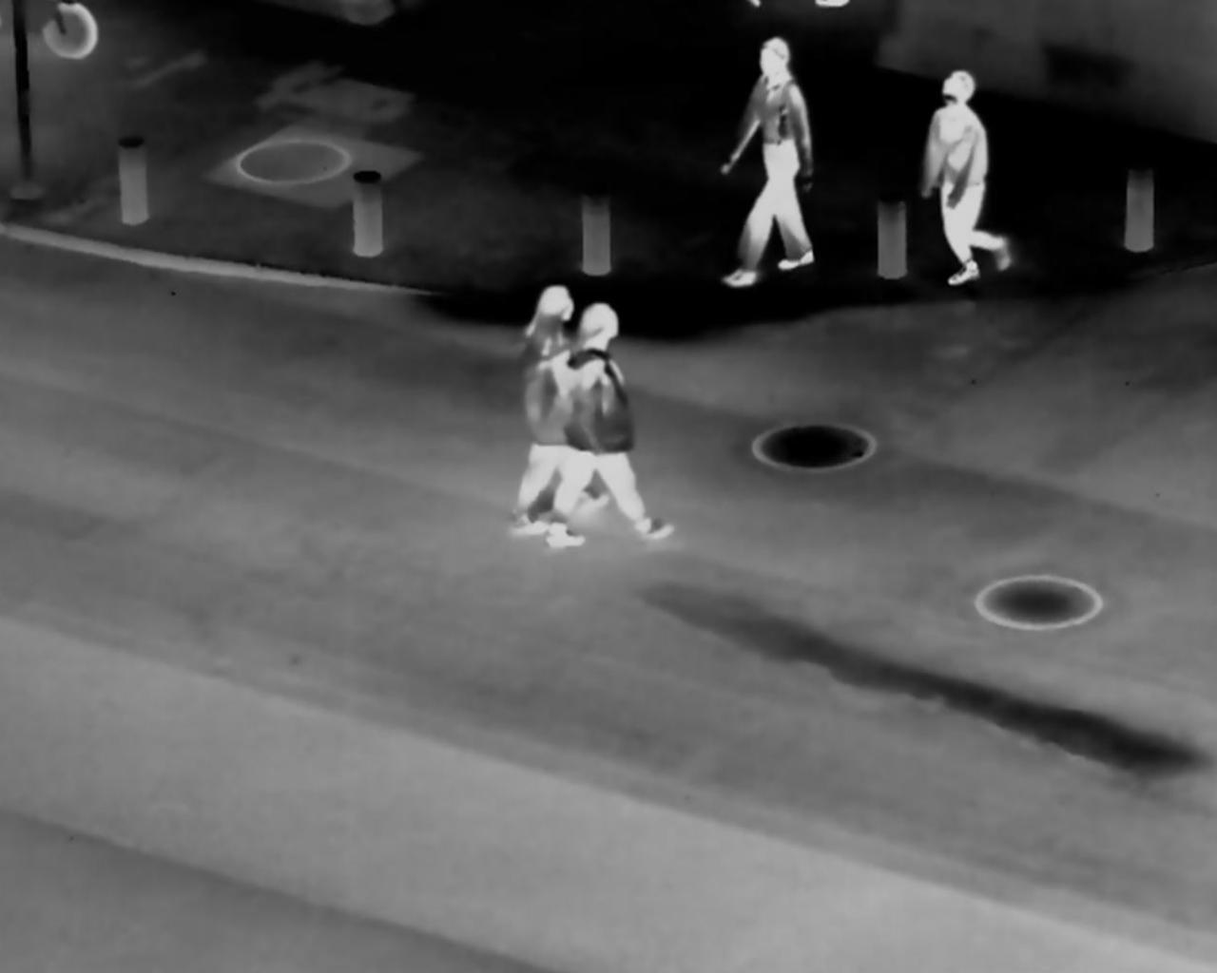person: (555, 293, 663, 557), (720, 27, 818, 290), (914, 58, 1015, 284), (516, 277, 571, 532)
